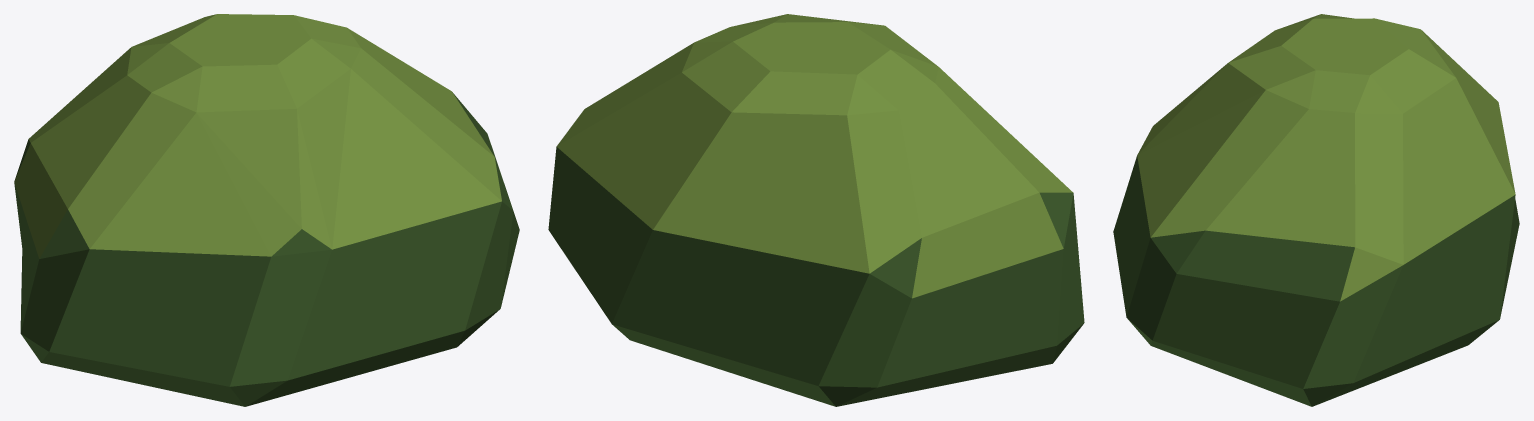
The model's file is gf_stone_small_a.glb.
3 views of the same model, side by side, from view 1: azimuth 30°, elevation 25°; view 2: azimuth 150°, elevation 25°; view 3: azimuth 270°, elevation 25° (orthographic). The views are drawn at different scales.
Visible parts, largest first — view 1: gf_stone_small_a; view 2: gf_stone_small_a; view 3: gf_stone_small_a.
Boxes of the visible parts, box(x1,y1,x2,y2) form: gf_stone_small_a: box(14, 14, 519, 406); gf_stone_small_a: box(548, 14, 1084, 406); gf_stone_small_a: box(1113, 14, 1519, 406).
Size of the model in its own units: 0.1457 by 0.075 by 0.1113.
